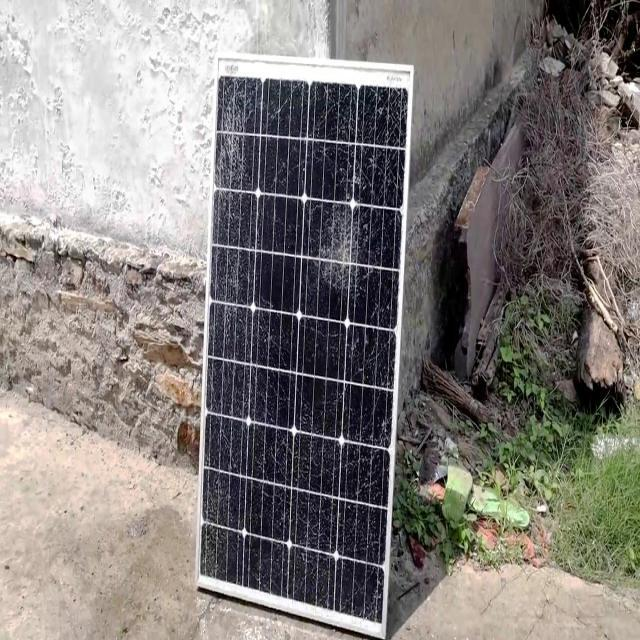faulty: (196, 52, 408, 636)
